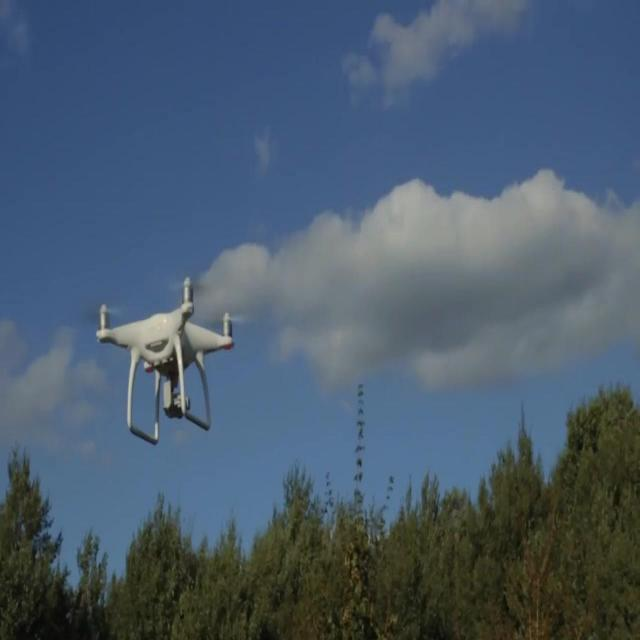UAV: (70, 276, 244, 446)
